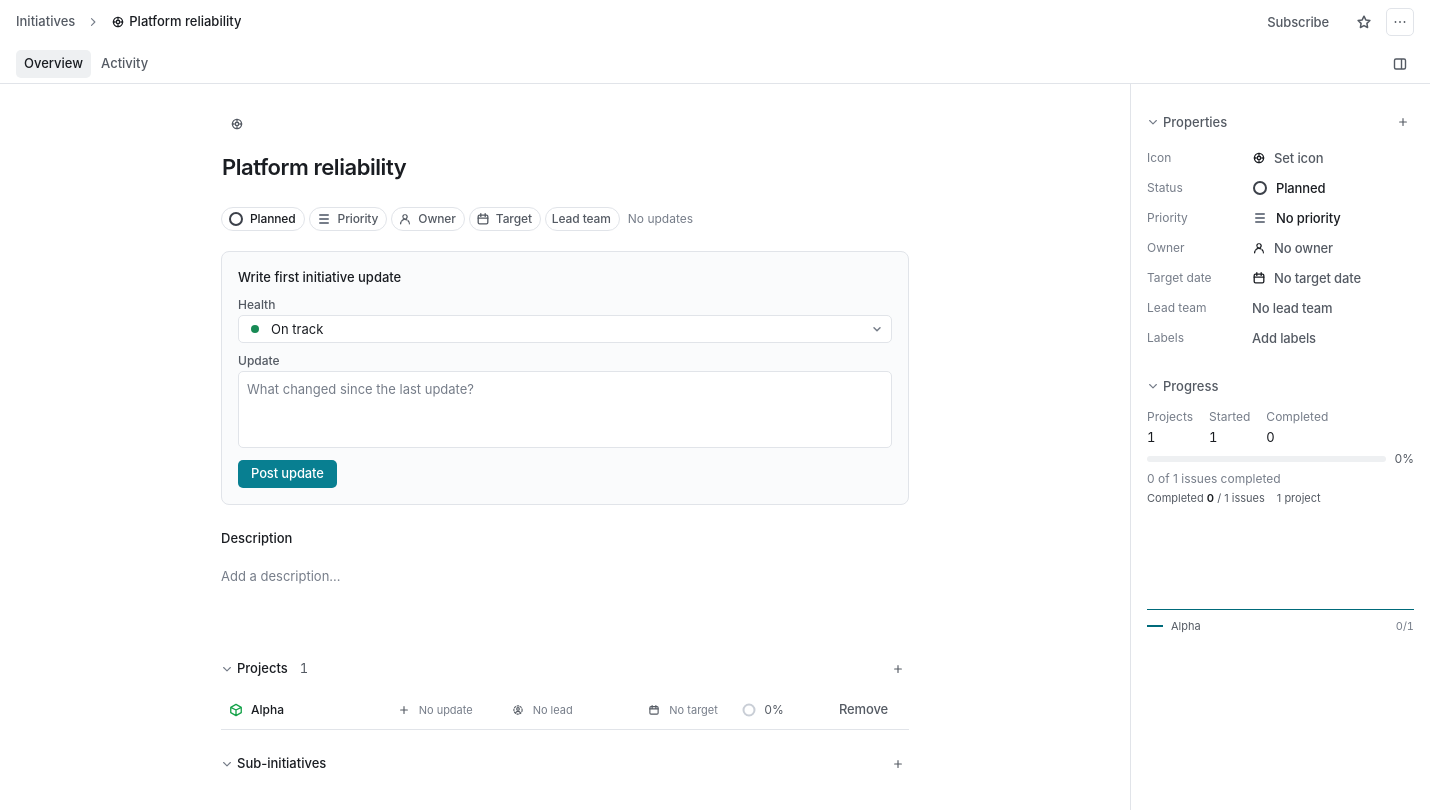
Test: the initiative reading column › opens on the properties, as pills outside the rail
Click the button "Planned" in the row of "No updates" at (263, 219), box top-left (221, 207), bottom-right (305, 231)
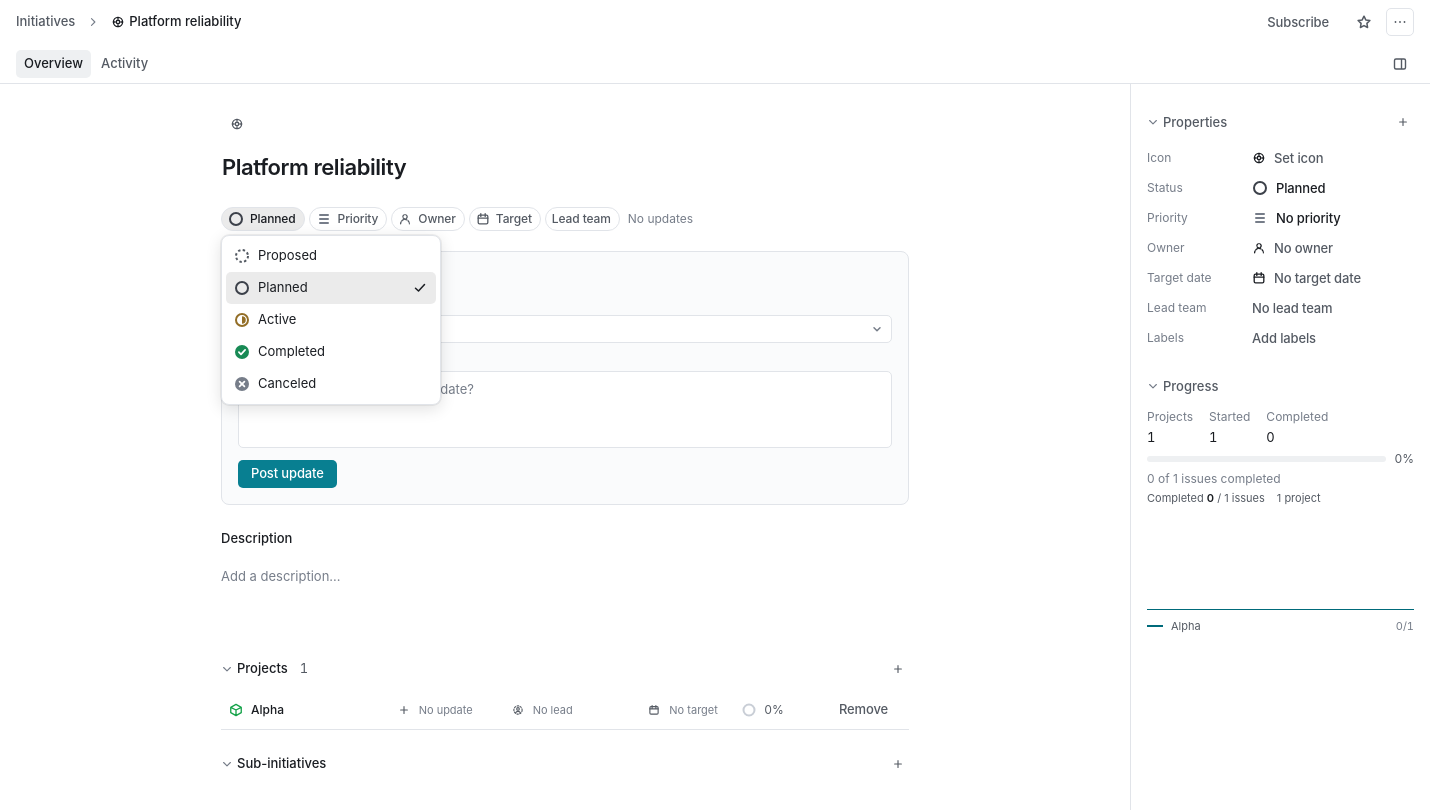
Expected: the menu item "Active" is shown, top-left (234, 311), bottom-right (296, 328)
